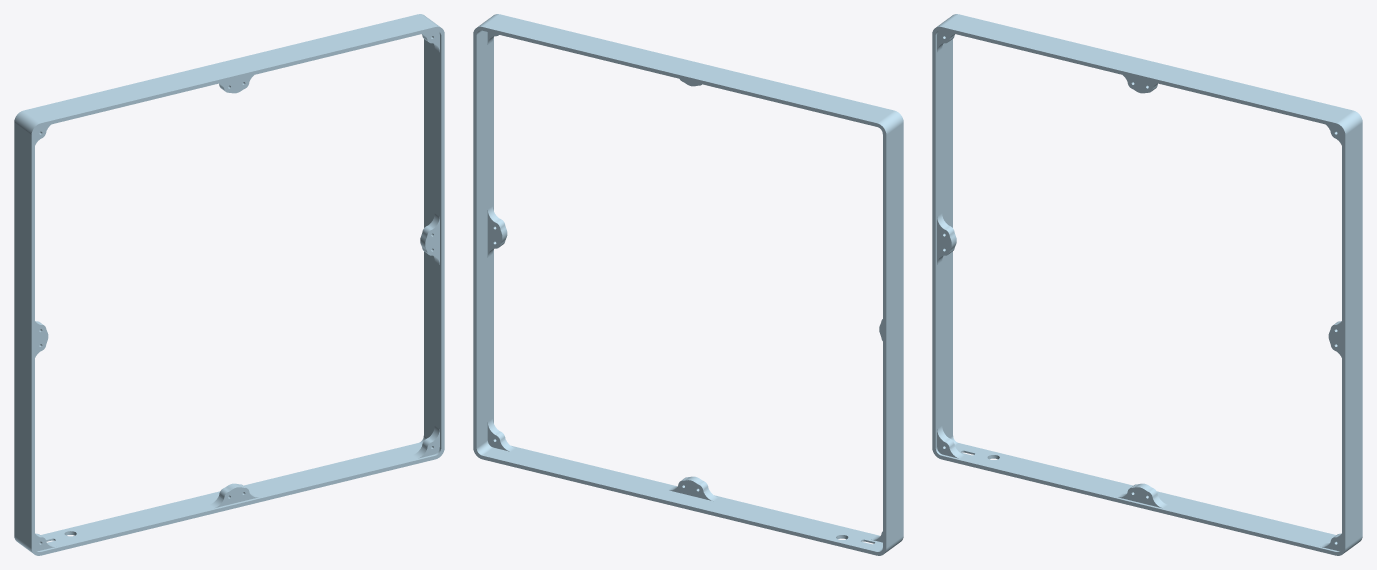
The model's file is Part_Studio_1_-_Chasie.glb.
3 renders of one model, left to right at view 1: azimuth 30°, elevation 25°; view 2: azimuth 150°, elevation 25°; view 3: azimuth 330°, elevation 25°, orthographic.
Parts seen in each view (by area): view 1: Chasie; view 2: Chasie; view 3: Chasie.
Part boxes in pixels (x1,y1,x2,y2): Chasie: [14, 14, 444, 555]; Chasie: [473, 14, 903, 555]; Chasie: [932, 14, 1362, 555].
Bounding box in the file's own units: 0.289 × 0.289 × 0.0211.
